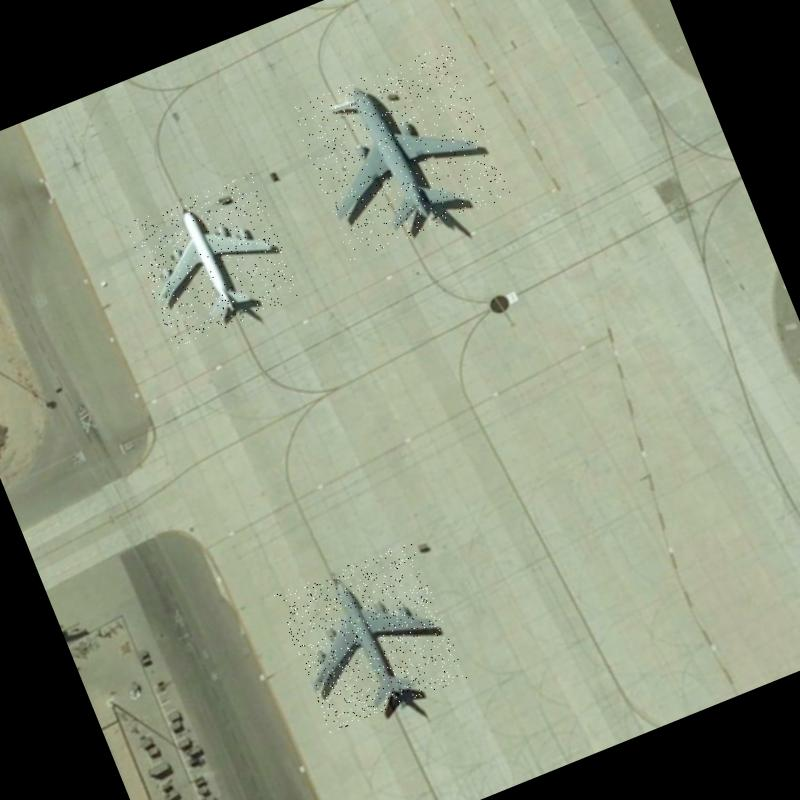A11: (123, 172, 302, 349)
A14: (274, 539, 466, 733)
A18: (288, 42, 512, 260)
